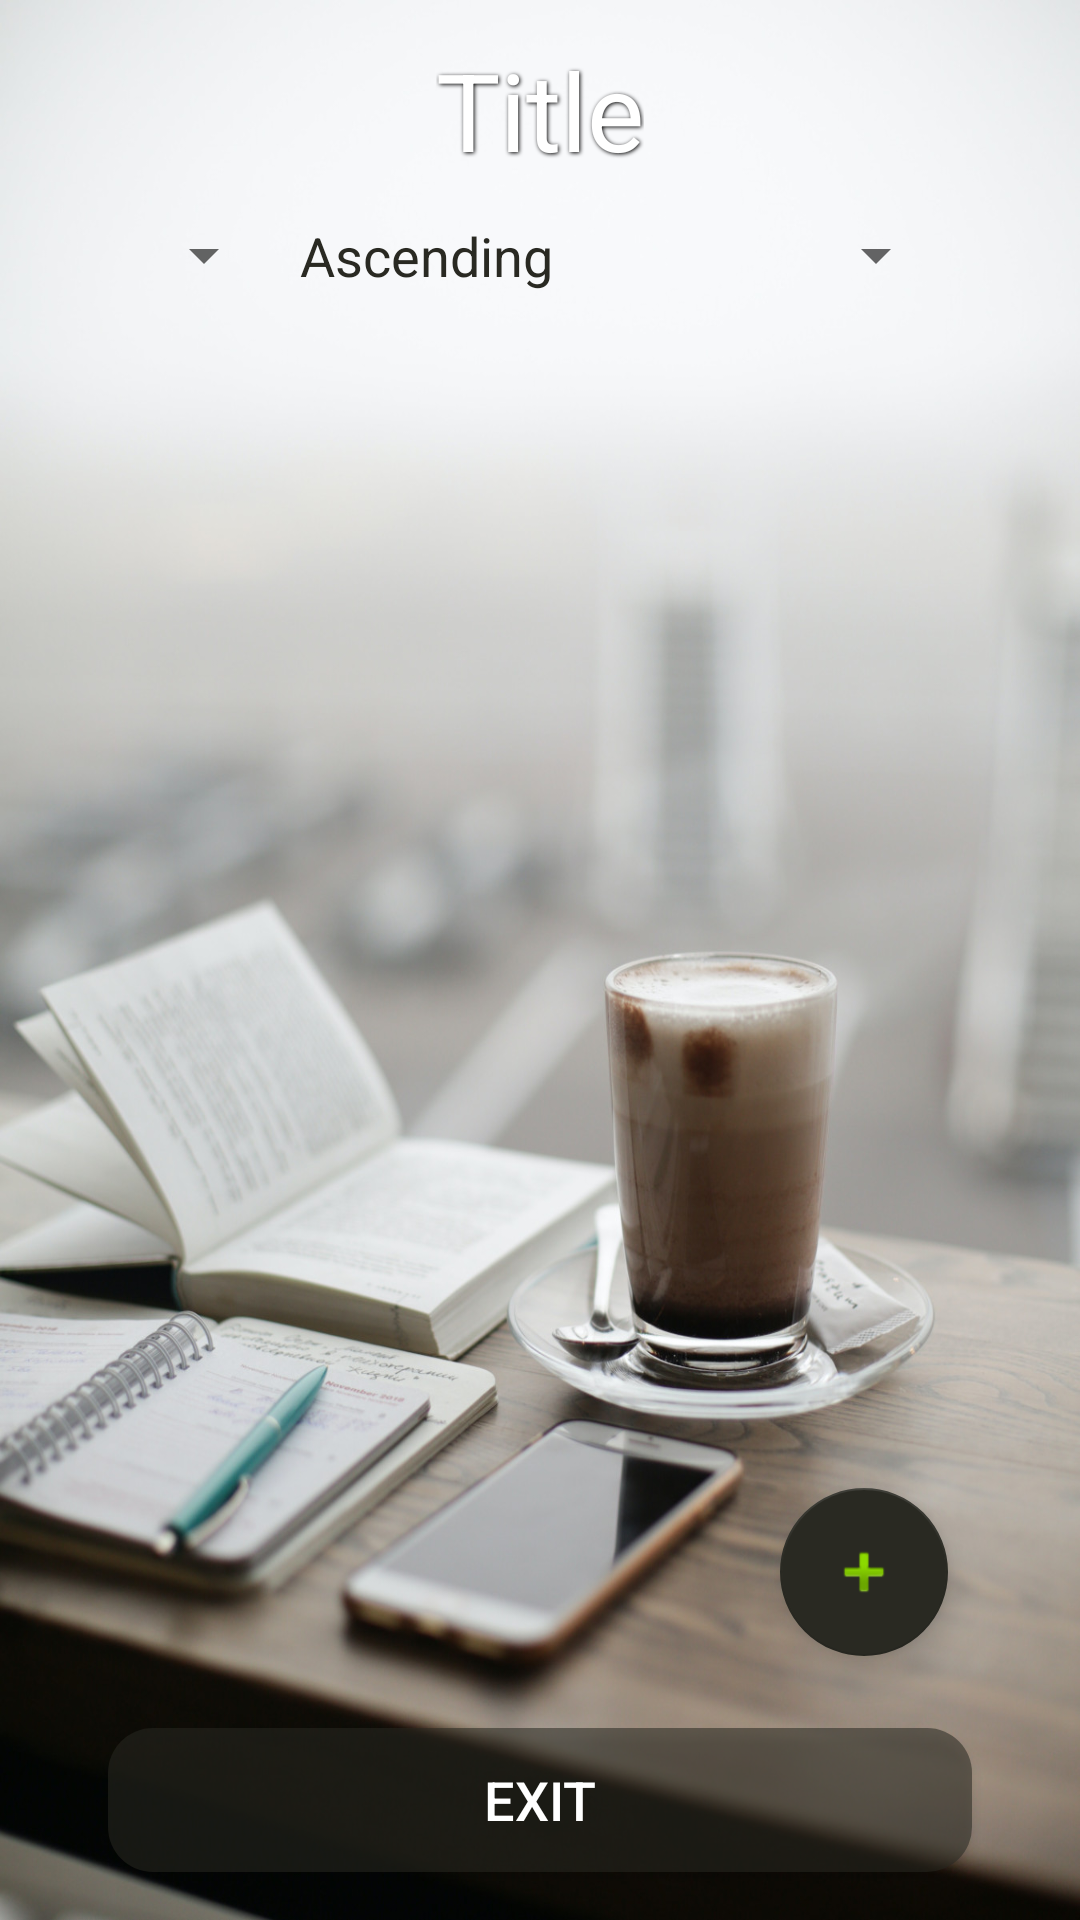

Icon click points for this 1080w x 1920h phone screenshot, format [x,y]:
add: [864,1572]
